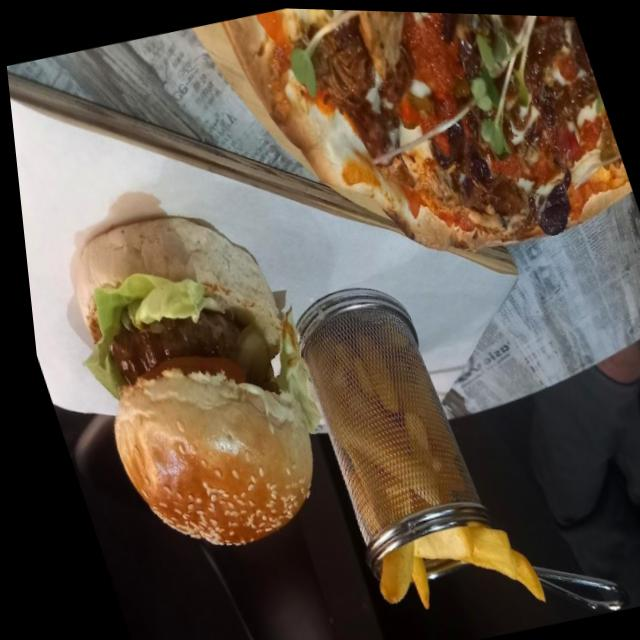burger: (37, 190, 344, 570)
pizza: (218, 5, 640, 290)
